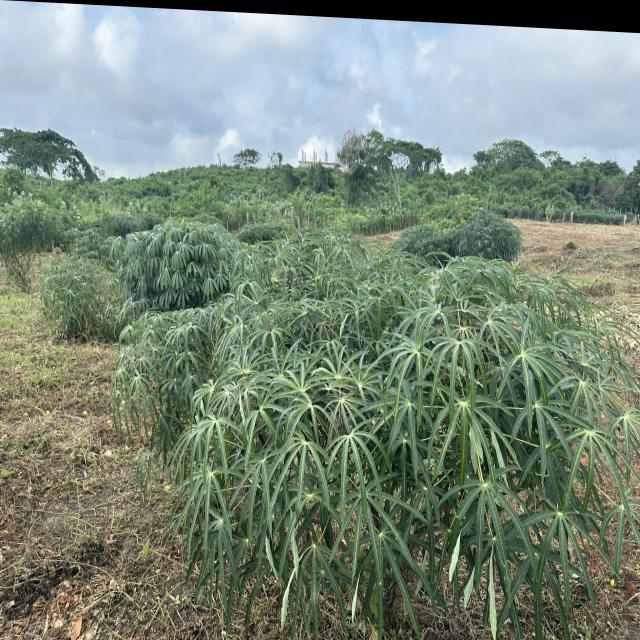Mosca: (398, 425, 414, 444), (366, 411, 379, 428), (331, 450, 342, 468), (531, 470, 548, 481), (167, 347, 182, 359)
